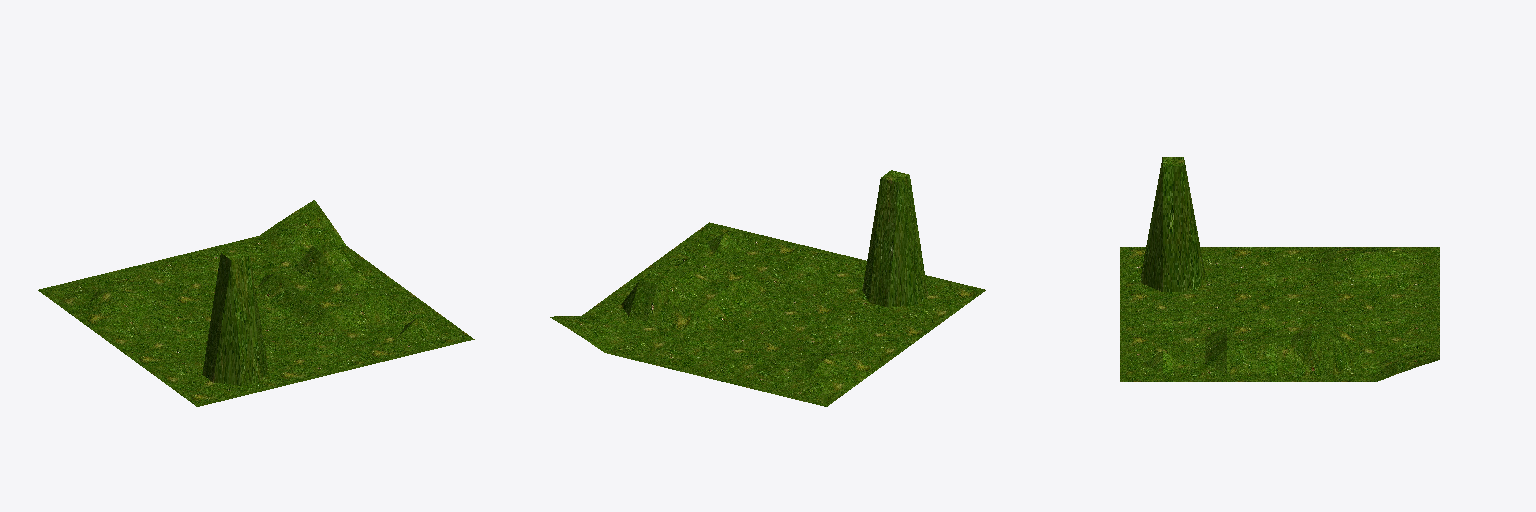
3 views of the same model, side by side, from view 1: azimuth 30°, elevation 25°; view 2: azimuth 150°, elevation 25°; view 3: azimuth 270°, elevation 25° (orthographic).
Parts seen in each view (by area): view 1: Grid.001; view 2: Grid.001; view 3: Grid.001.
Part boxes in pixels (left/top/right/bottom): Grid.001: left=38, top=200, right=474, bottom=406; Grid.001: left=550, top=170, right=985, bottom=406; Grid.001: left=1120, top=157, right=1439, bottom=381.
Bounding box in the file's own units: 100 × 40.47 × 100.
Materials: 1 (1 with a texture image).